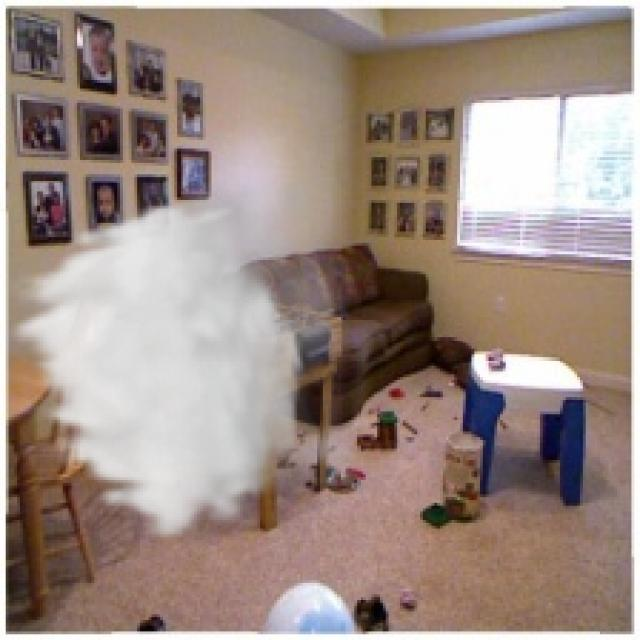smoke: (3, 128, 377, 543)
